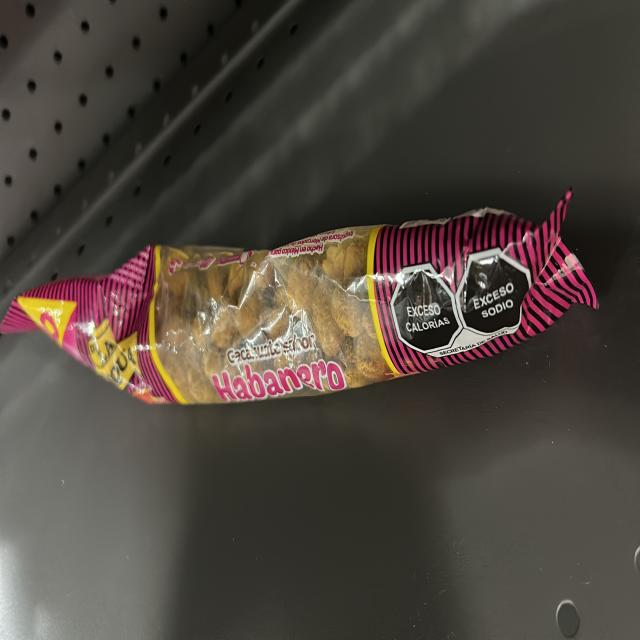bitzHabanero: (26, 235, 566, 405)
